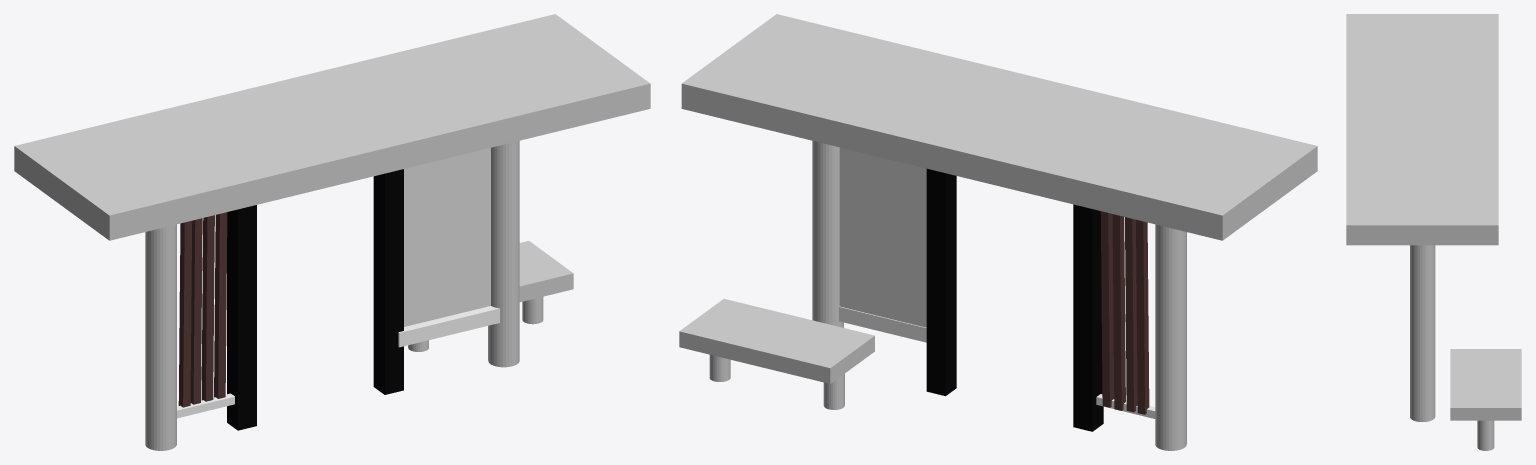
3 renders of one model, left to right at view 1: azimuth 30°, elevation 25°; view 2: azimuth 150°, elevation 25°; view 3: azimuth 270°, elevation 25°, orthographic. The views are drawn at different scales.
Parts seen in each view (by area): view 1: Cylinder.004, Cube.011, Cube.004, Cube.003, Cube.018, Cube.019, Cube.012, Cube.017, Cube.006, Cube.008; view 2: Cylinder.004, Cube.011, Cube.004, Cube.003, Cube.018, Cube.019, Cube.012, Cube.017, Cube.006; view 3: Cylinder.004.
Boxes of the visible parts, bbox=[...] form: Cylinder.004: bbox=[14, 14, 650, 450]; Cube.011: bbox=[404, 148, 490, 326]; Cube.004: bbox=[373, 169, 403, 394]; Cube.003: bbox=[227, 205, 256, 430]; Cube.018: bbox=[201, 215, 214, 401]; Cube.019: bbox=[214, 212, 227, 398]; Cube.012: bbox=[178, 220, 192, 407]; Cube.017: bbox=[190, 218, 202, 404]; Cube.006: bbox=[398, 306, 499, 347]; Cube.008: bbox=[177, 393, 234, 418]; Cylinder.004: bbox=[679, 14, 1317, 450]; Cube.011: bbox=[839, 147, 926, 327]; Cube.004: bbox=[926, 168, 956, 396]; Cube.003: bbox=[1073, 204, 1103, 431]; Cube.018: bbox=[1112, 214, 1125, 410]; Cube.019: bbox=[1100, 211, 1114, 407]; Cube.012: bbox=[1136, 219, 1149, 414]; Cube.017: bbox=[1125, 217, 1137, 412]; Cube.006: bbox=[839, 306, 926, 342]; Cylinder.004: bbox=[1346, 14, 1521, 450].
Bounding box in the file's own units: 23.67 × 12.23 × 8.29.
